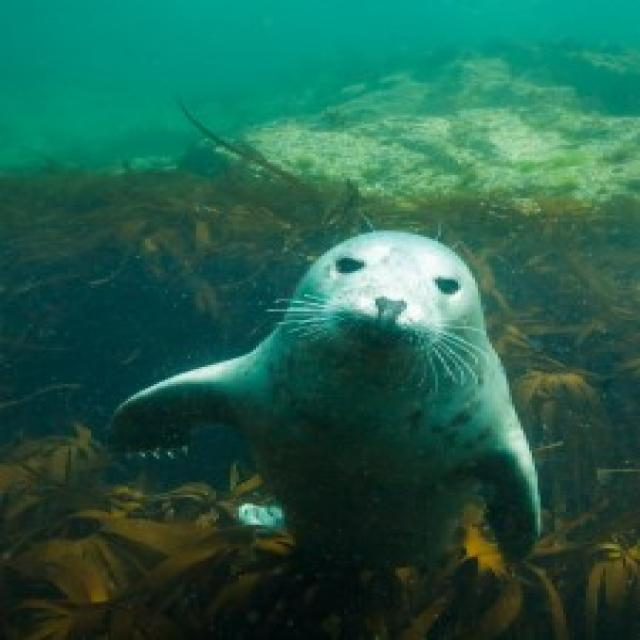Seal: (94, 223, 558, 594)
